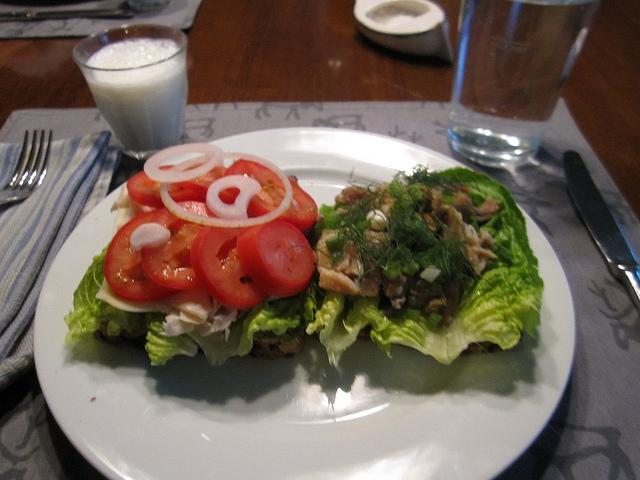lettuce: (437, 168, 544, 338), (370, 268, 521, 366), (188, 280, 318, 366), (64, 240, 152, 348), (306, 291, 380, 368), (145, 312, 198, 366), (320, 203, 342, 229)
onion: (160, 152, 294, 228), (143, 144, 224, 184), (206, 174, 261, 220), (130, 223, 170, 252), (419, 266, 442, 284)
tomato: (141, 195, 220, 290), (104, 208, 182, 302), (190, 227, 271, 310), (224, 160, 318, 230), (238, 222, 316, 298), (127, 164, 206, 208), (174, 165, 228, 197)
